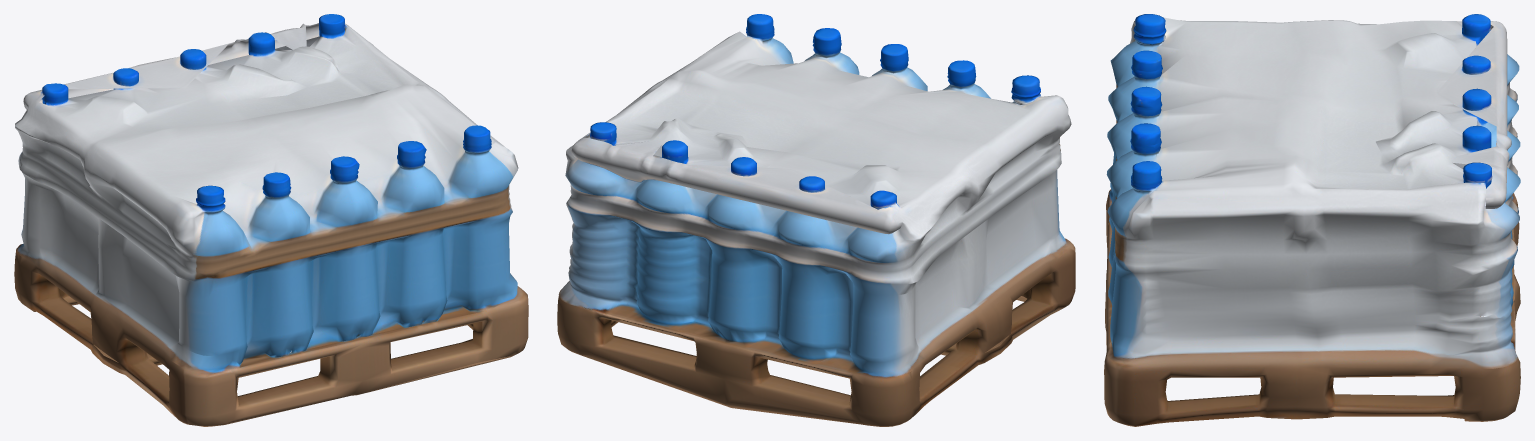
File: voda-paleta.glb
The picture shows the model from 3 angles, left to right: view 1: azimuth 30°, elevation 25°; view 2: azimuth 150°, elevation 25°; view 3: azimuth 270°, elevation 25°; orthographic projection. The views are drawn at different scales.
Parts seen in each view (by area): view 1: tripo_node_79267fe1-89b4-429a-8e67-9bd51f4eebdd; view 2: tripo_node_79267fe1-89b4-429a-8e67-9bd51f4eebdd; view 3: tripo_node_79267fe1-89b4-429a-8e67-9bd51f4eebdd.
Boxes of the visible parts, <box> form: tripo_node_79267fe1-89b4-429a-8e67-9bd51f4eebdd: <box>14,14,528,426</box>; tripo_node_79267fe1-89b4-429a-8e67-9bd51f4eebdd: <box>557,14,1075,426</box>; tripo_node_79267fe1-89b4-429a-8e67-9bd51f4eebdd: <box>1104,14,1520,426</box>.
Bounding box in the file's own units: 0.9995 × 0.646 × 0.9194.
1 material, 1 textured.
